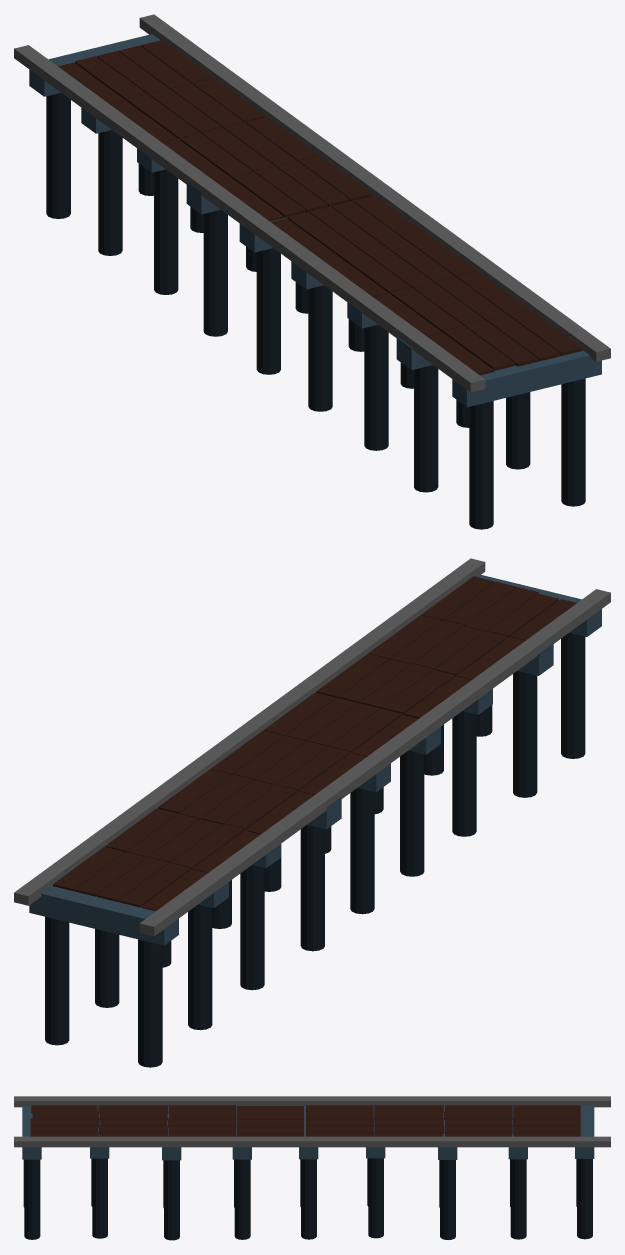
3 views of the same model, one above another, from view 1: azimuth 30°, elevation 25°; view 2: azimuth 150°, elevation 25°; view 3: azimuth 270°, elevation 25° (orthographic). The views are drawn at different scales.
Parts seen in each view (by area): view 1: group1915664950, group1449723076, group2094383461, group967139872, group651820503, group1531649586, group399796857, group708455435, group30773341, group913359233, group992261283, group267177202 (+43 smaller); view 2: group1915664950, group1449723076, group2125578627, group1168459618, group913359233, group1531649586, group399796857, group708455435, group30773341, group967139872, group992261283, group267177202 (+43 smaller); view 3: group1449723076, group1915664950, group812431462, group651820503, group18594053, group446339050, group1475809206, group373659363, group1349716218, group1168459618, group1511047612, group2125578627 (+48 smaller).
Part boxes in pixels (box(x1,y1,x2,y2)): group1915664950: box(14, 45, 485, 392); group1449723076: box(139, 14, 610, 361); group2094383461: box(452, 350, 601, 407); group967139872: box(469, 401, 493, 529); group651820503: box(561, 378, 585, 506); group1531649586: box(414, 365, 438, 492); group399796857: box(203, 210, 227, 336); group708455435: box(256, 248, 280, 374); group30773341: box(308, 285, 332, 411); group913359233: box(46, 93, 70, 218); group992261283: box(364, 325, 388, 450); group267177202: box(98, 130, 122, 255); group1915664950: box(139, 589, 610, 936); group1449723076: box(14, 558, 485, 905); group2125578627: box(29, 885, 178, 945); group1168459618: box(45, 916, 69, 1045); group913359233: box(138, 939, 162, 1067); group1531649586: box(513, 671, 537, 797); group399796857: box(300, 824, 324, 951); group708455435: box(350, 788, 374, 914); group30773341: box(400, 750, 424, 876); group967139872: box(561, 633, 585, 758); group992261283: box(452, 711, 476, 836); group267177202: box(188, 904, 212, 1030); group1449723076: box(14, 1136, 610, 1147); group1915664950: box(14, 1096, 610, 1107); group812431462: box(234, 1159, 250, 1239); group651820503: box(24, 1159, 40, 1239); group18594053: box(510, 1159, 526, 1239); group446339050: box(92, 1158, 107, 1238); group1475809206: box(301, 1159, 316, 1239); group373659363: box(164, 1160, 179, 1240); group1349716218: box(368, 1158, 383, 1238); group1168459618: box(577, 1159, 592, 1239); group1511047612: box(440, 1160, 455, 1239); group2125578627: box(575, 1105, 594, 1158).
Bounding box in the file's own units: 1.54 × 1.64 × 8.63.
